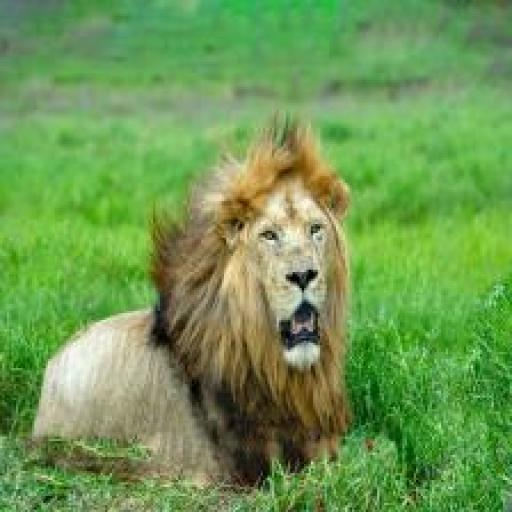lion: (27, 103, 375, 478)
